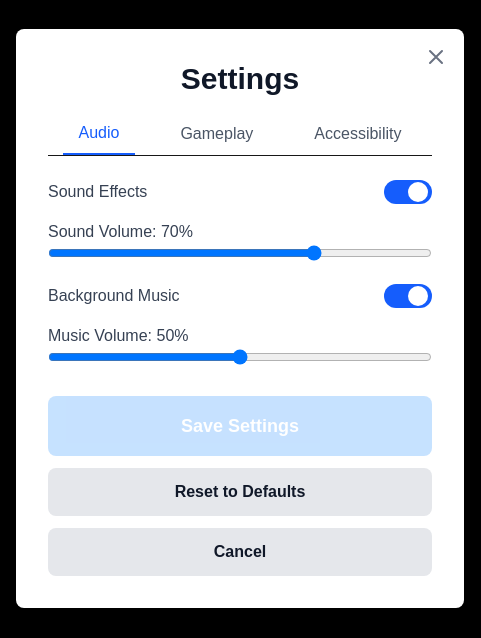
SettingsMenu › switches between tabs
Expected: the text "Sound Effects" is shown, top-left (48, 180), bottom-right (147, 204)
Click the button "Gameplay" at (217, 138), box top-left (164, 120), bottom-right (269, 154)
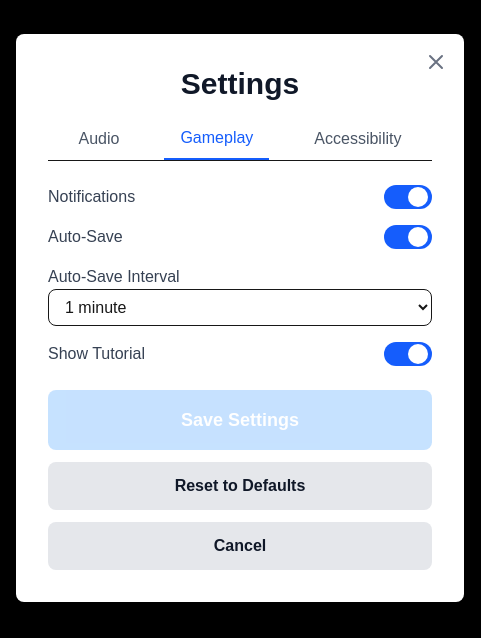
Now the text "Notifications" is shown, box top-left (48, 185), bottom-right (135, 209)
Click the button "Accessibility" at (358, 143), box top-left (298, 126), bottom-right (417, 160)
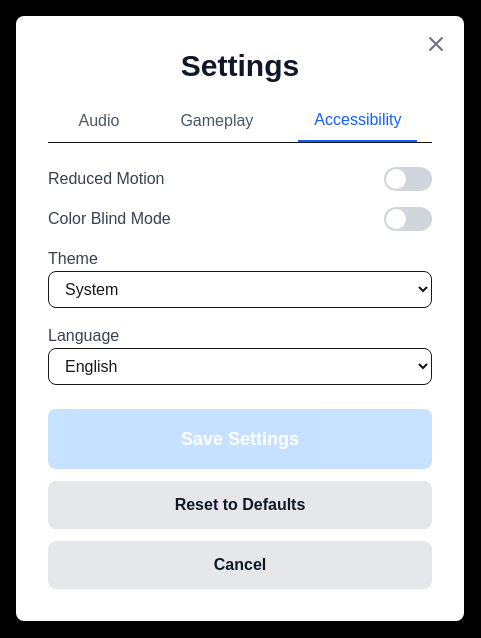
Now the text "Reduced Motion" is shown, box top-left (48, 166), bottom-right (164, 190)
